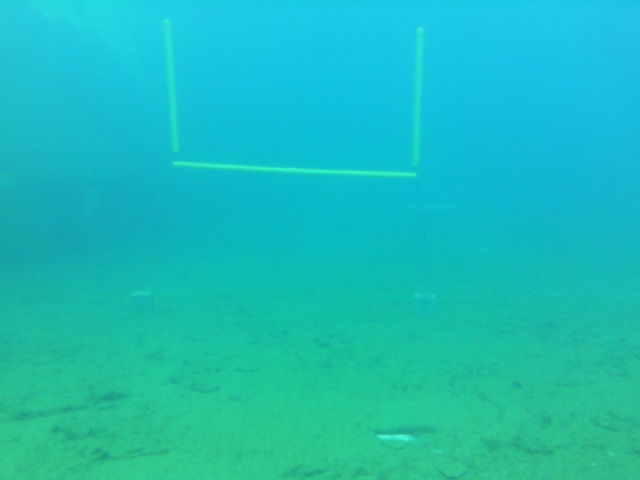channel: (164, 20, 426, 176)
